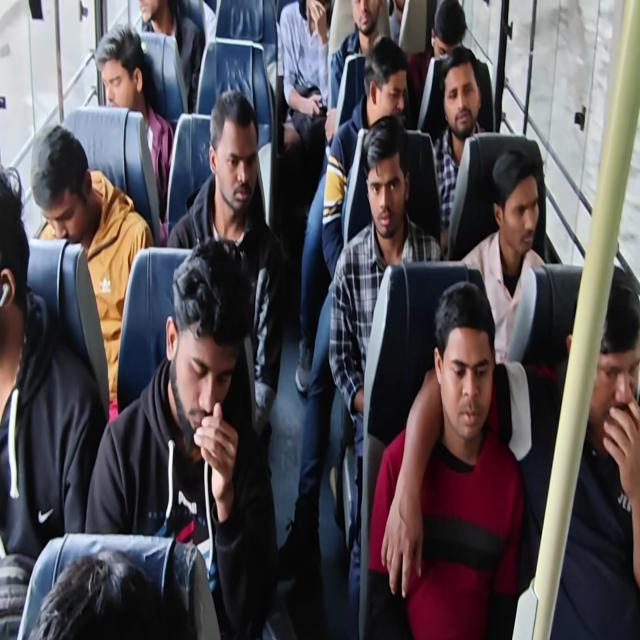person: (1, 1, 638, 638), (383, 262, 640, 639), (84, 236, 279, 638), (327, 114, 443, 634), (364, 280, 526, 638), (0, 163, 107, 637), (166, 89, 284, 468), (530, 262, 640, 638), (295, 1, 392, 395), (30, 124, 154, 421), (321, 36, 410, 280), (18, 535, 220, 639), (460, 148, 547, 366), (94, 22, 174, 244), (405, 0, 493, 139), (431, 45, 488, 254), (325, 0, 391, 145), (278, 0, 329, 152), (134, 0, 202, 113)
